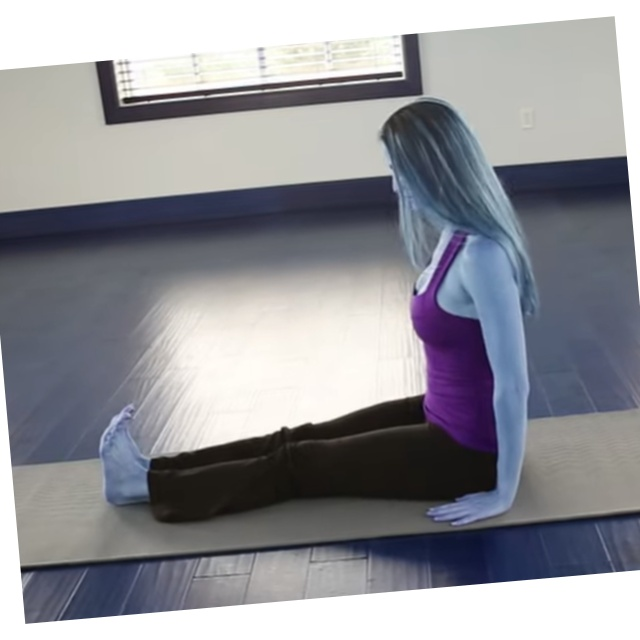Staff_Pose: (95, 97, 531, 528)
